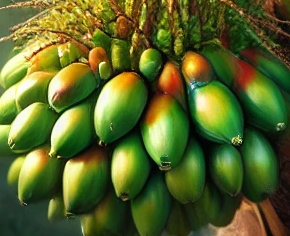PalmFruit: (7, 43, 278, 220)
